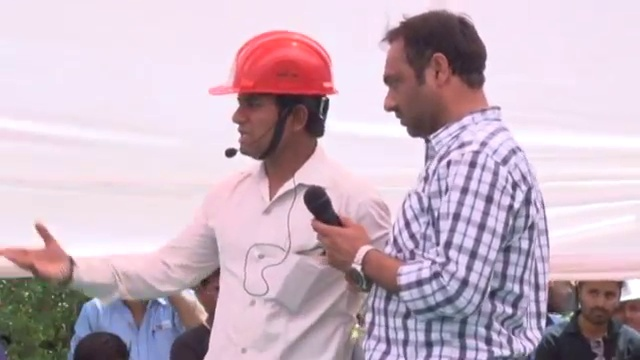helmet: (210, 29, 339, 101), (616, 282, 640, 303)
helmet_off: (383, 14, 492, 144), (192, 274, 224, 329)
helmet_on: (210, 32, 340, 157), (616, 289, 640, 336)
person: (310, 7, 552, 360), (145, 20, 394, 311), (70, 288, 181, 360), (544, 280, 627, 360), (165, 272, 223, 360)
